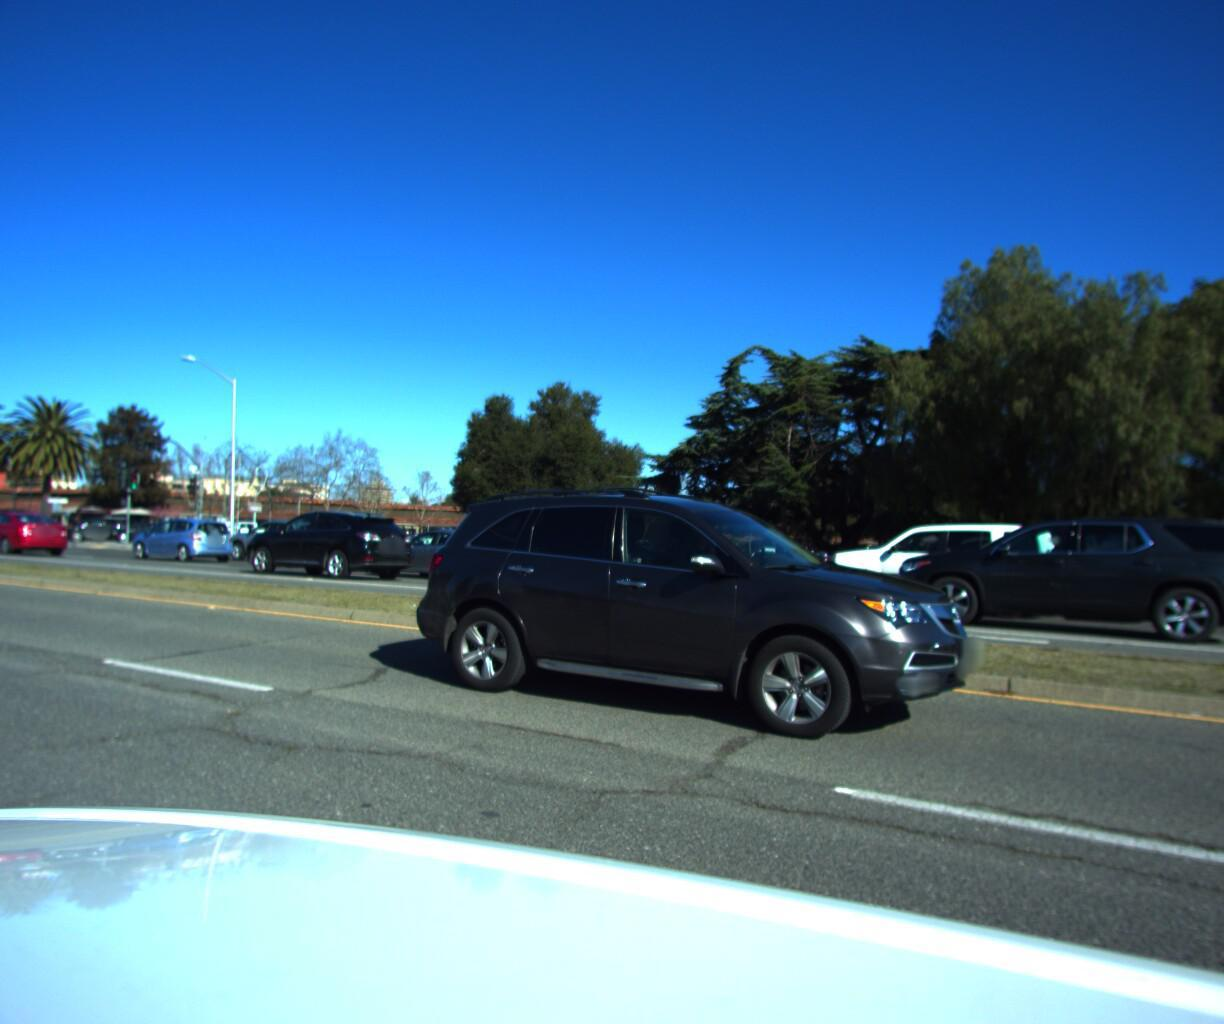car: (405, 477, 995, 769), (898, 502, 1224, 656), (799, 514, 1057, 622), (227, 499, 428, 580), (375, 515, 530, 582), (122, 508, 241, 560), (221, 513, 332, 561), (196, 514, 287, 542), (53, 510, 137, 539), (409, 523, 486, 549), (101, 516, 176, 538)
